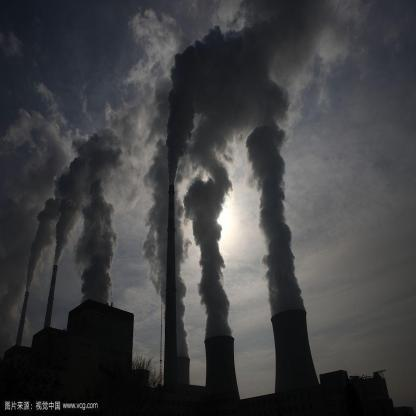smoke: (178, 34, 284, 108), (71, 148, 126, 212), (80, 223, 110, 304), (204, 248, 227, 338), (260, 134, 283, 224), (270, 226, 294, 310), (166, 108, 192, 185), (198, 185, 222, 249), (198, 121, 234, 162), (27, 224, 38, 296), (54, 201, 68, 256)
